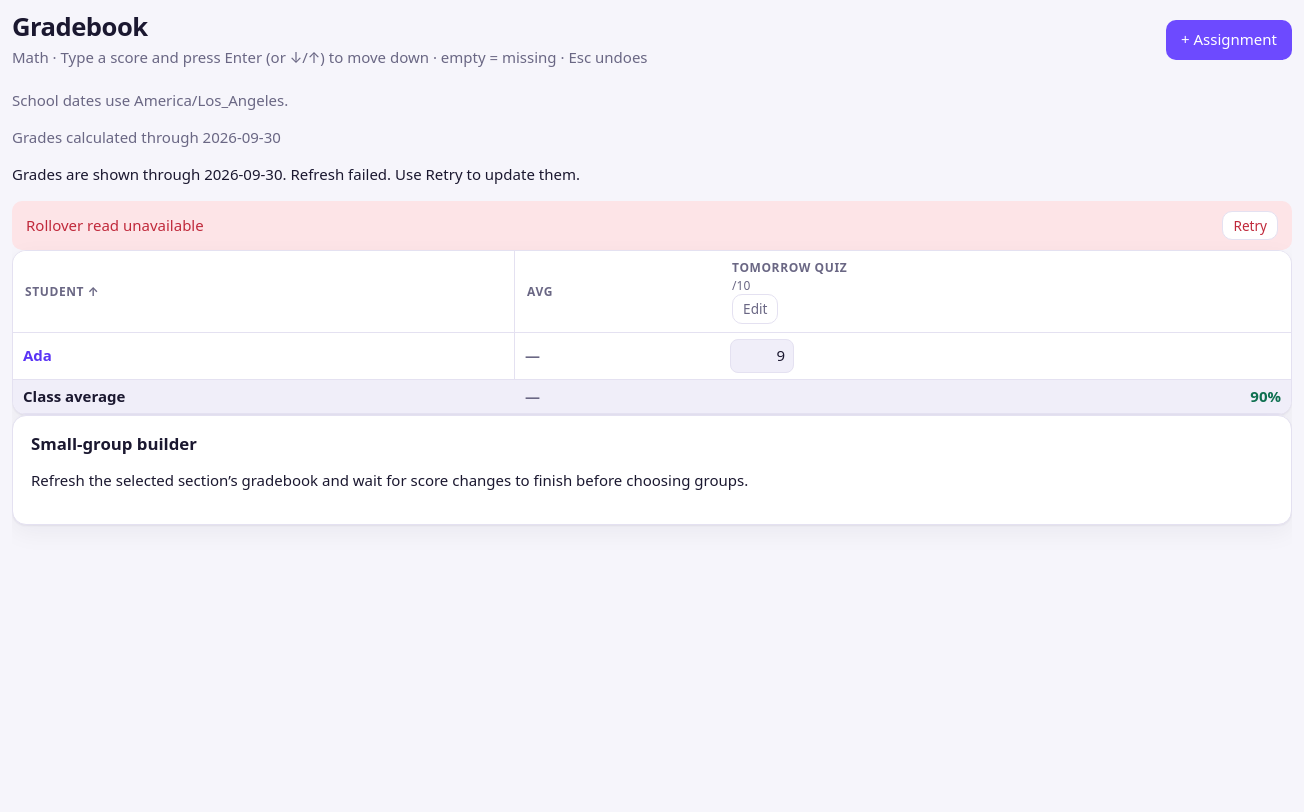
Test: labels a failed rollover with the old cutoff and retries explicitly without an automatic loop
Check: the link "Ada" is shown, box [23, 345, 52, 365]
Check: the text "Rollover read unavailable" is shown, box [26, 215, 204, 236]
Click the button "Retry".
click(1250, 226)  # box [1222, 211, 1278, 240]
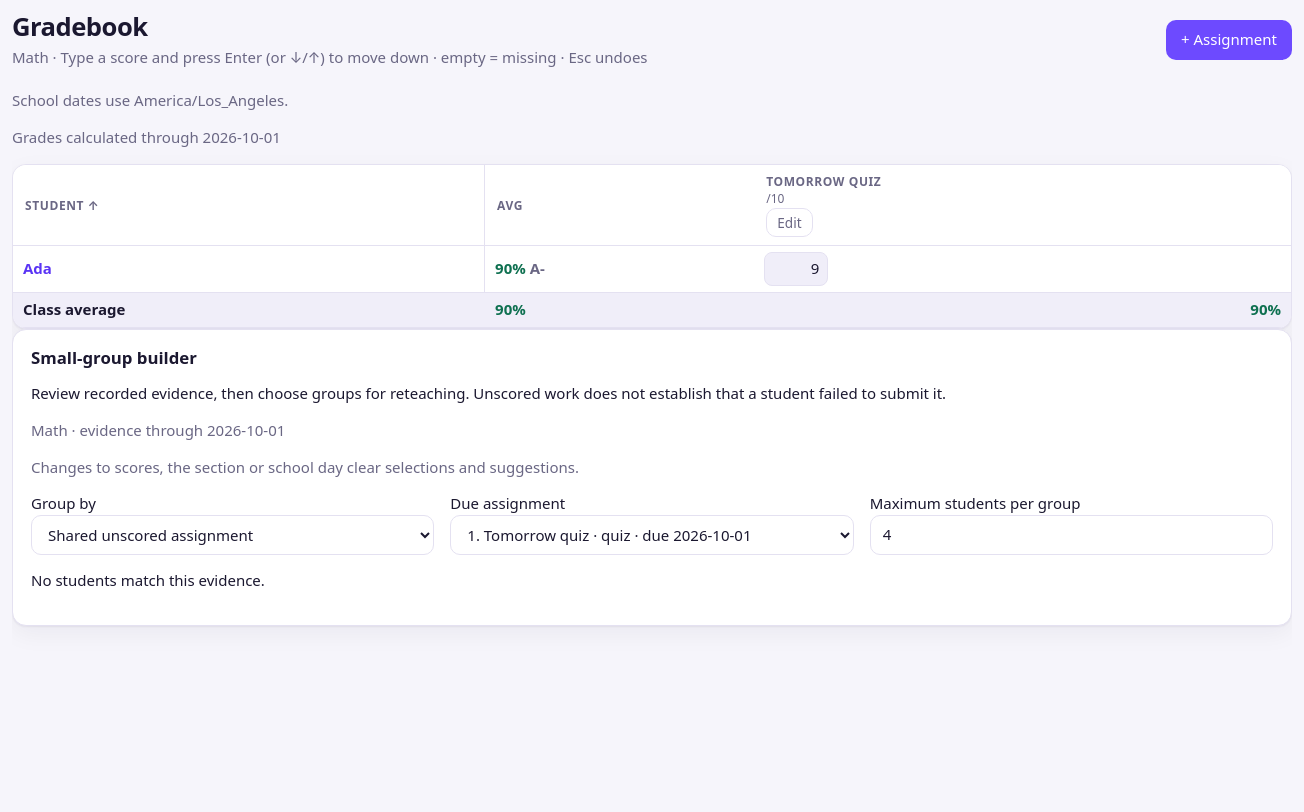
Check: the field named "Ada, Tomorrow quiz" holds "9", box [764, 252, 828, 286]
Check: the text "Grades calculated through 2026-10-01" is shown, box [12, 127, 281, 147]
